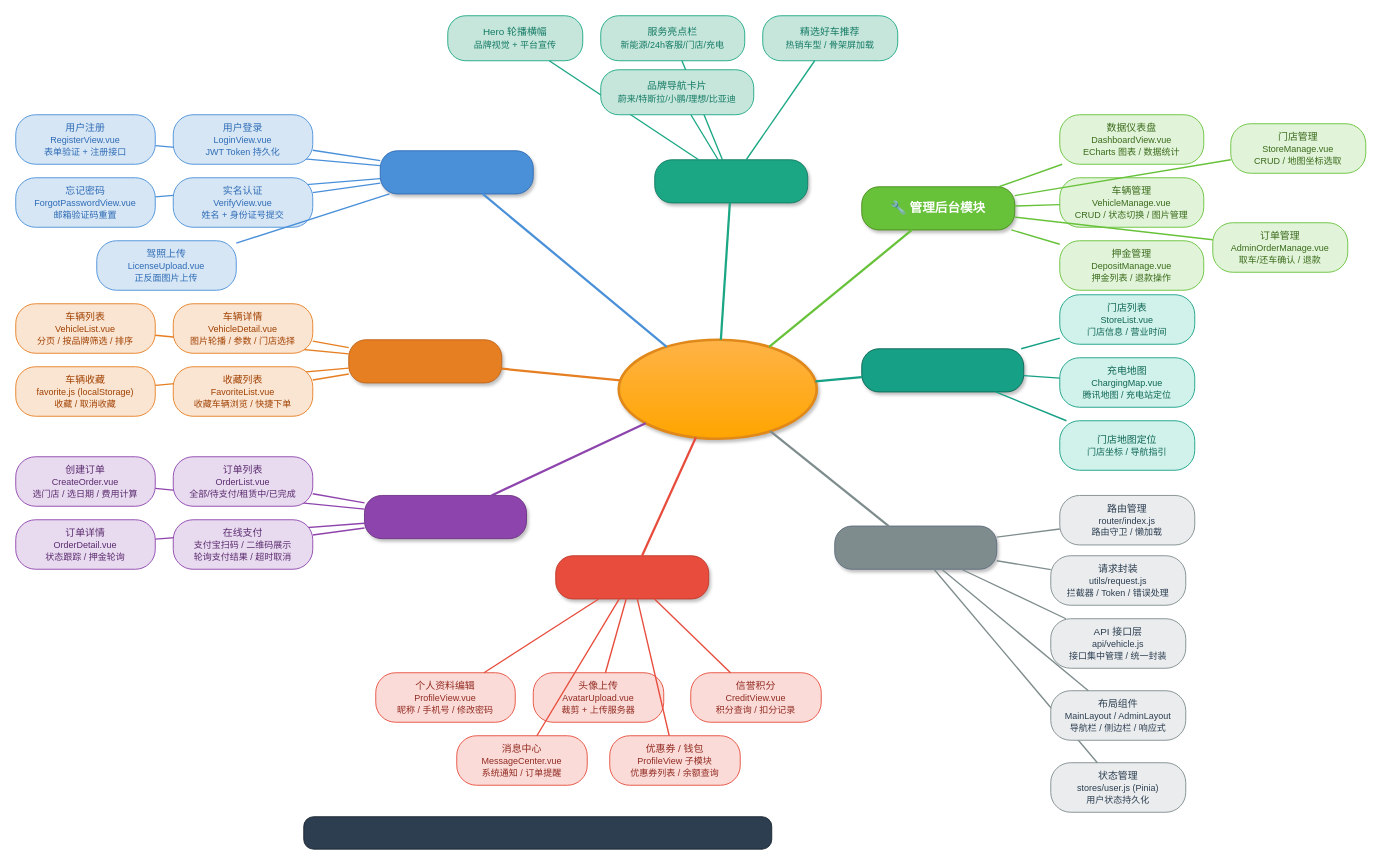
Image size: 1382x865. Some labels were removed from this diagram. Each missing label, with the centre of its shape:
"e租出行 新能源汽车租赁平台 前端功能模块" belongs at point (718, 390).
"⚙️ 公共基础模块" belongs at point (916, 549).
"技术栈： Vue 3 + Vite + Element Plus + Pinia + Vue Router + Axios + ECharts + 腾讯地图" belongs at point (537, 832).
"🏠 首页展示模块" belongs at point (731, 182).
"👤 个人中心模块" belongs at point (632, 578).
"📋 订单与支付模块" belongs at point (446, 518).
"📍 门店与充电模块" belongs at point (943, 371).
"🔐 用户认证模块" belongs at point (457, 173).
"🚗 车辆浏览模块" belongs at point (425, 362).
